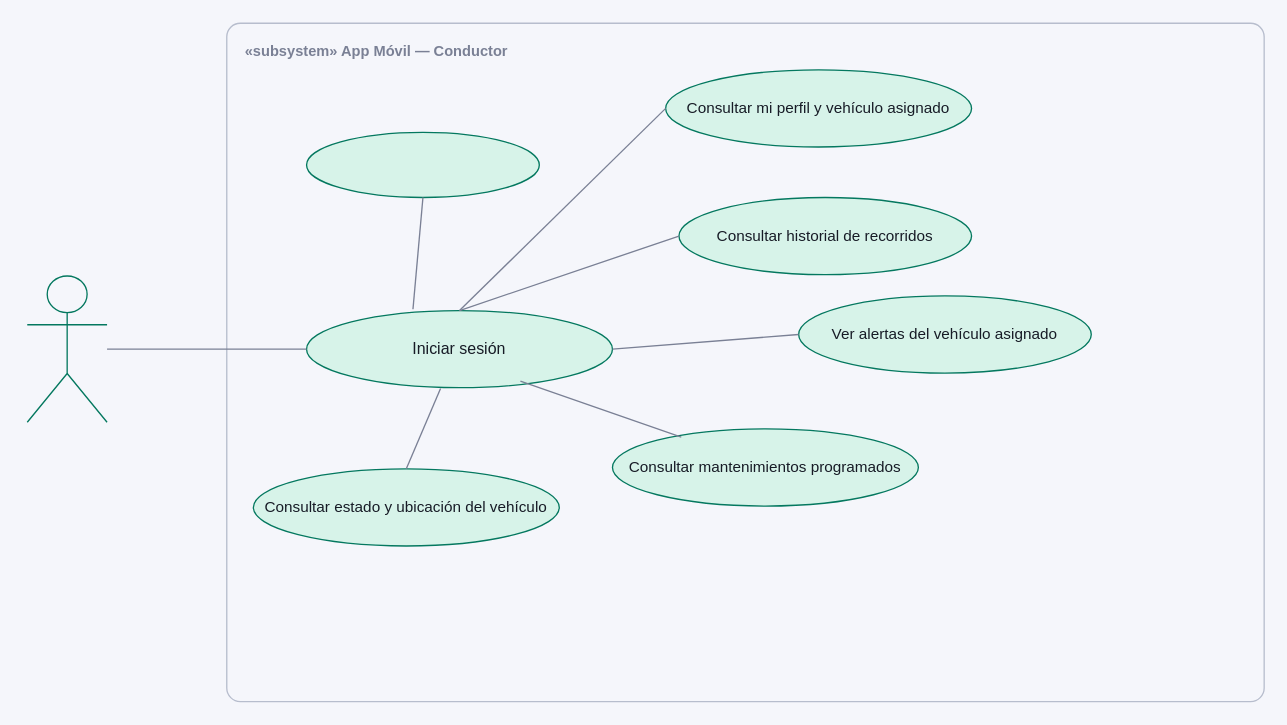
Some shapes in this 1287 by 725 pixel diagram are drawn without their labels. The shapes that lost their labels are listed below. From the top down, each one's box as (x1, y1, x2, y2) in pixels, then its label:
(305, 131, 539, 198): Cerrar sesión
(26, 275, 107, 422): Conductor
